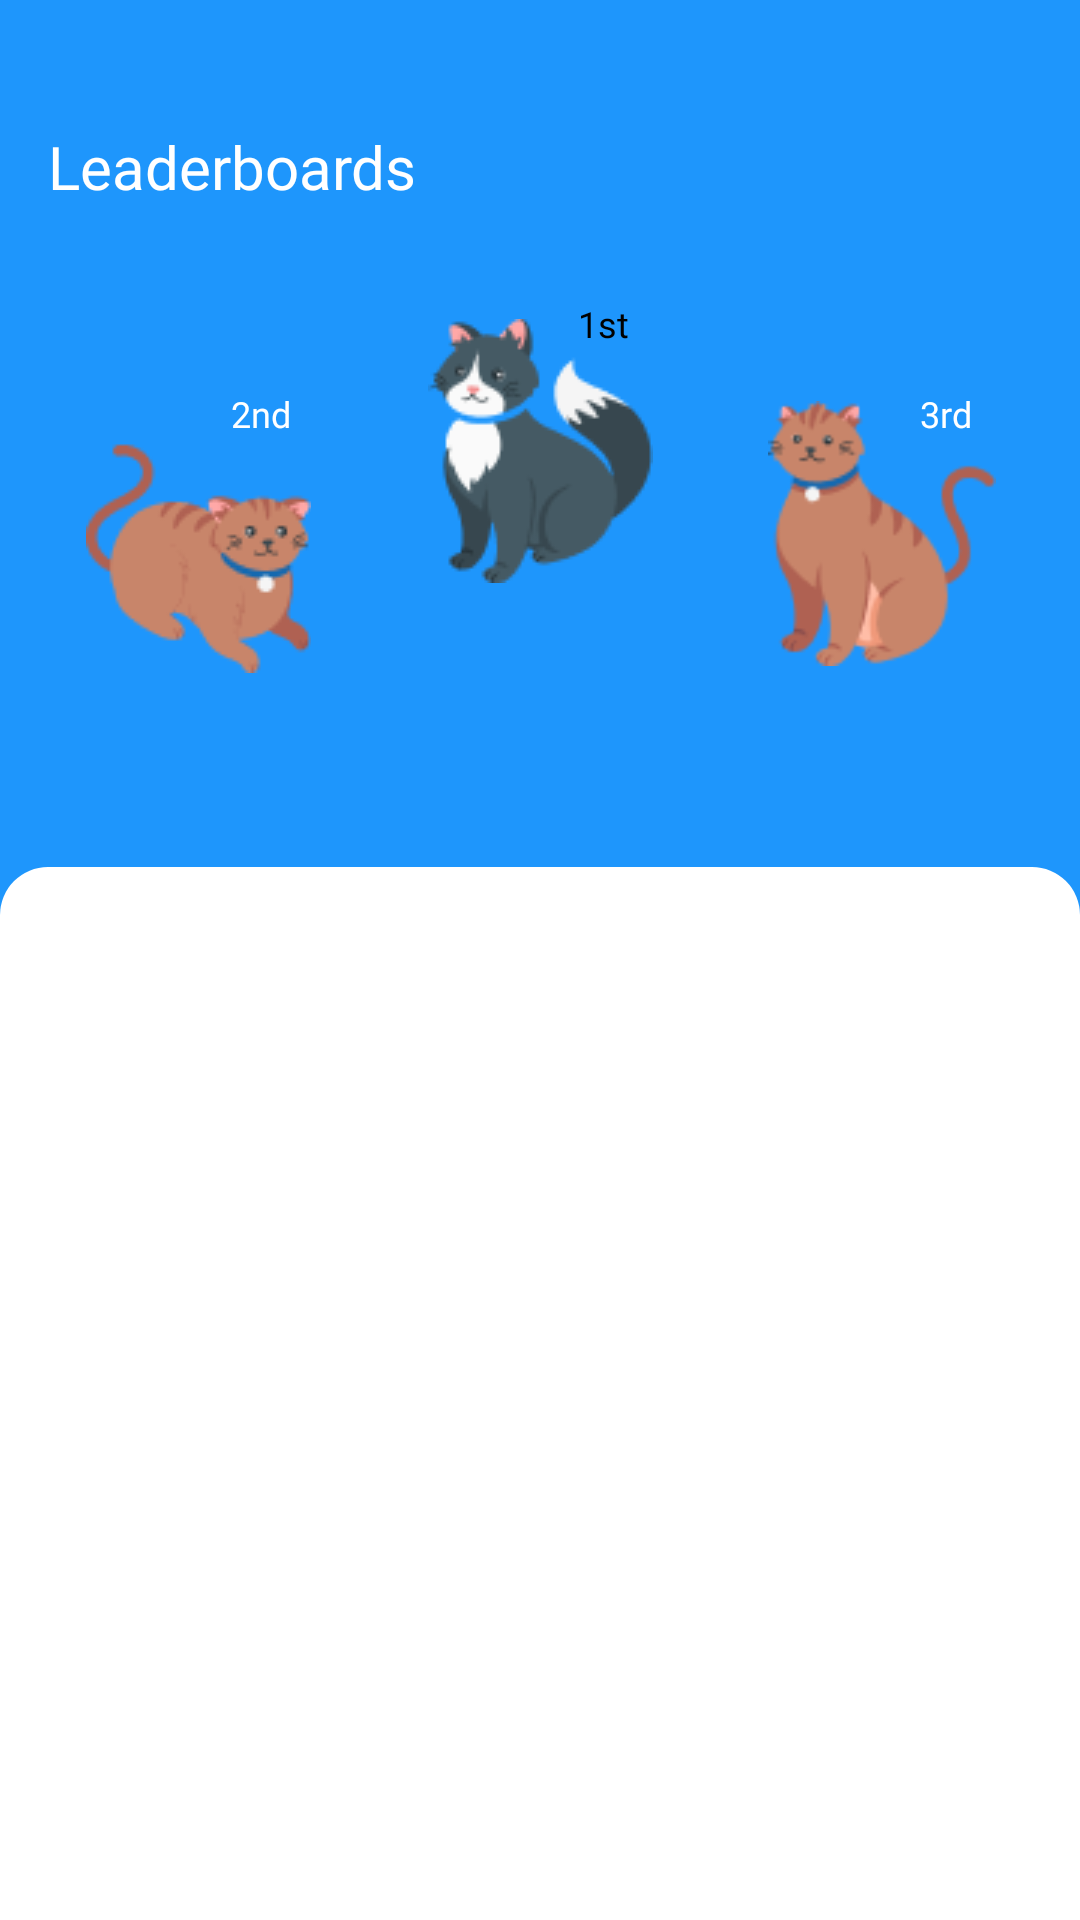

Icons on this 1080w x 1920h Android screen, each with the point to tap as [x,y]:
cat: [540,451], [882,533], [198,558]
